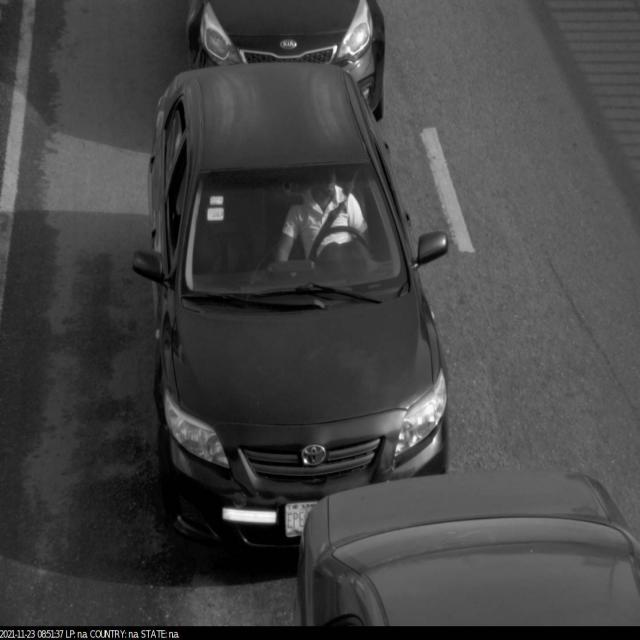windshield: (169, 157, 416, 317)
